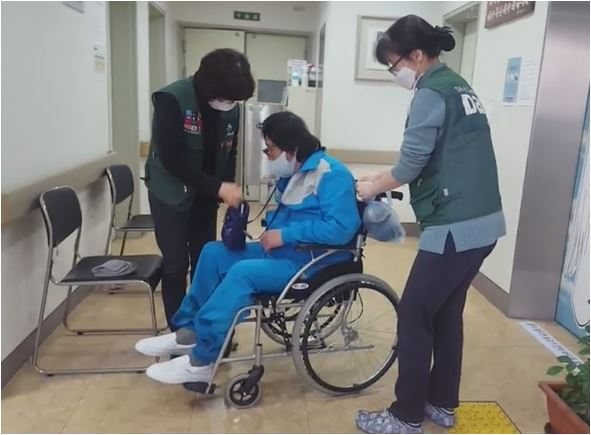crutches: (136, 111, 400, 407)
